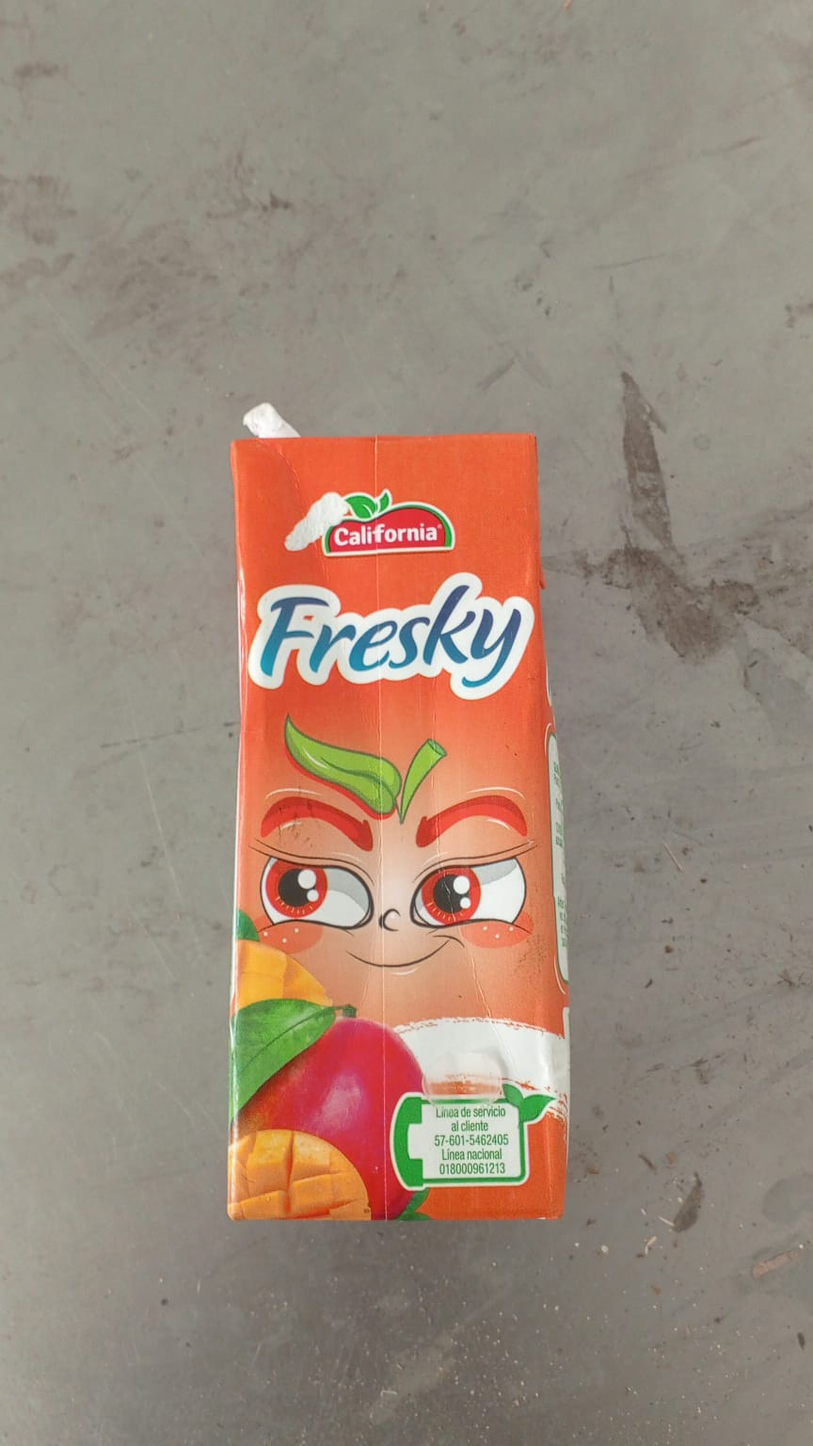Carton: (226, 436, 572, 1220)
